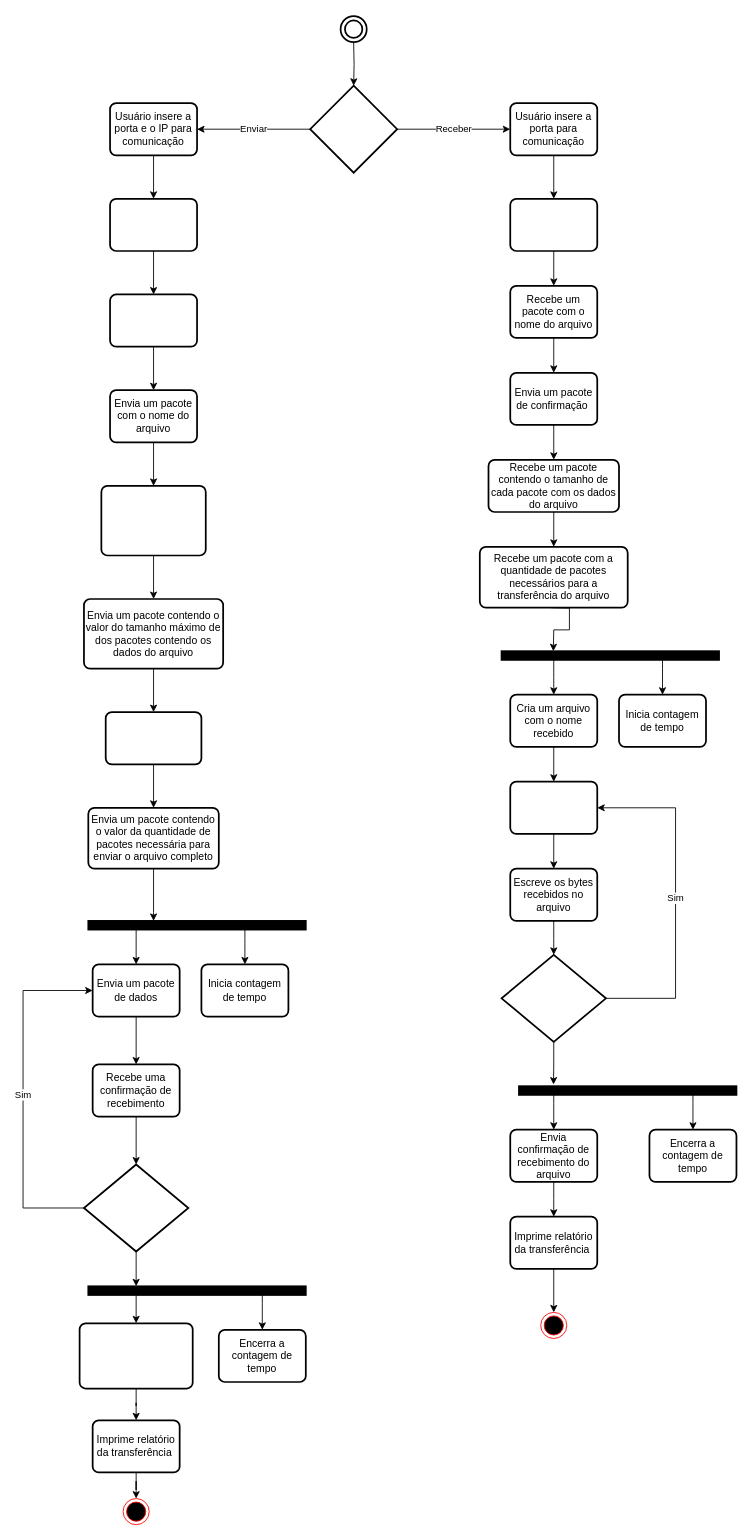
Image size: 753x1540. Some labels were removed from this diagram. Each missing label, with the centre of its shape:
"Conecta com o outro dispositivo" goes at (553,224).
"Insere o caminho do arquivo" goes at (153,320).
"Lê o arquivo original byte a byte" goes at (153,738).
"Recebe um pacote de N bytes" goes at (553,807).
"Recebe uma confirmação de que o arquivo completo foi recebido" goes at (135,1355).
"Recebe uma confirmação de que o nome foi recebido e o arquivo foi criado" goes at (153,520).
"Restam pacotes a serem enviado?" goes at (136,1207).
"Restam pacotes para serem lidos?" goes at (553,998).
"Seleciona o modo de uso" goes at (353,128).
"Seleciona o tamanho máximo dos pacotes" goes at (153,224).
